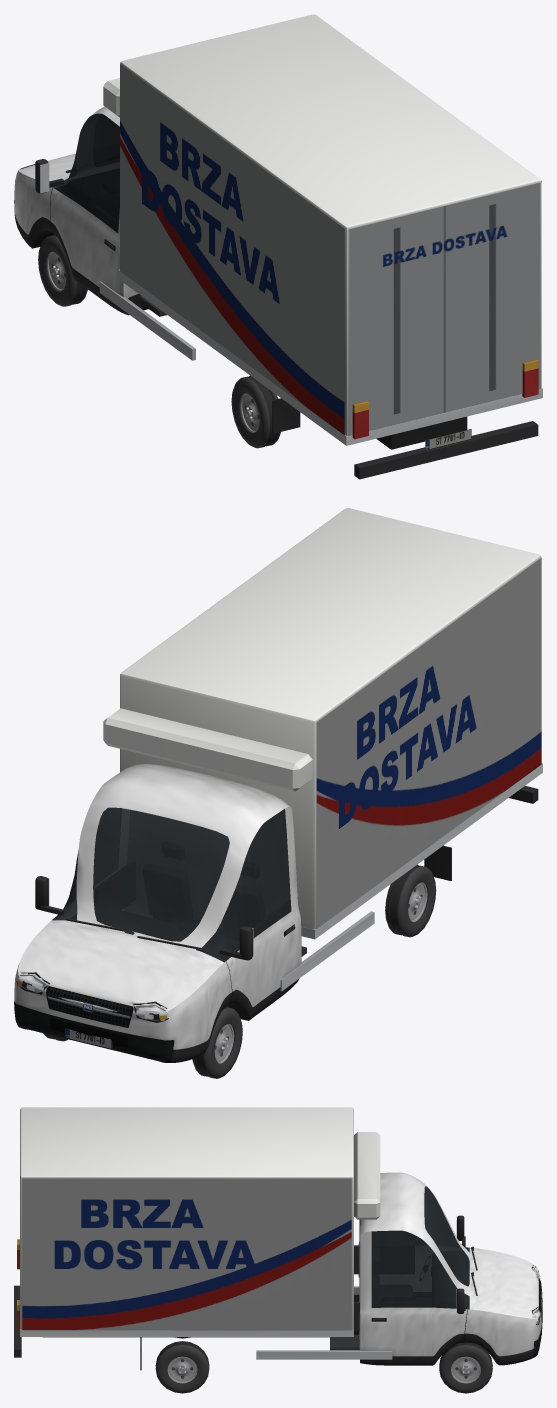
Rendered from boxtruck.glb.
The picture shows the model from 3 angles, top to bottom: view 1: azimuth 30°, elevation 25°; view 2: azimuth 150°, elevation 25°; view 3: azimuth 270°, elevation 25°; orthographic projection. The views are drawn at different scales.
Parts seen in each view (by area): view 1: body, wheelmesh_2, wheelmesh_0; view 2: body, wheelmesh_2, wheelmesh_0; view 3: body, wheelmesh_3, wheelmesh_1.
Boxes of the visible parts, x1,y1,x2,y2 form: body: (14,14,542,479); wheelmesh_2: (231,375,280,448); wheelmesh_0: (38,235,87,306); body: (14,508,542,1062); wheelmesh_2: (385,864,436,937); wheelmesh_0: (192,1007,242,1078); body: (14,1107,542,1370); wheelmesh_3: (155,1341,209,1393); wheelmesh_1: (439,1342,492,1393).
Size of the model in its own units: 2.41 by 3.25 by 7.
23 materials, 1 textured.
